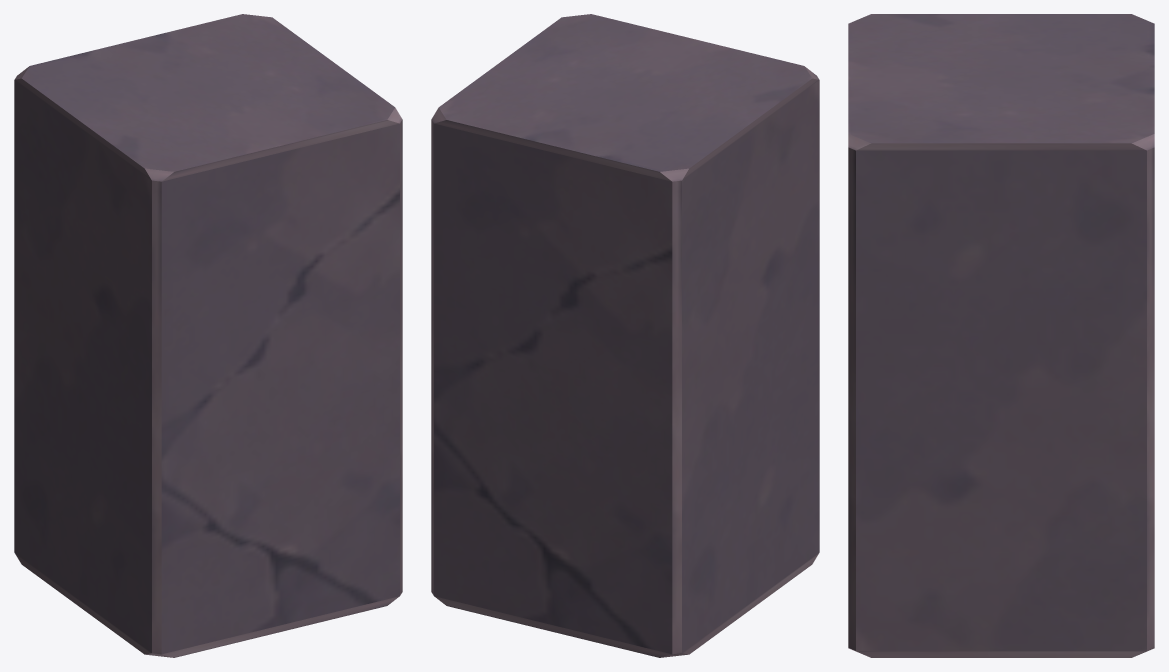
File: Stone_pillar.FBX
3 renders of one model, left to right at view 1: azimuth 30°, elevation 25°; view 2: azimuth 150°, elevation 25°; view 3: azimuth 270°, elevation 25°, orthographic. The views are drawn at different scales.
Visible parts, largest first — view 1: Box004; view 2: Box004; view 3: Box004.
Part boxes in pixels (x1,y1,x2,y2): Box004: (14, 14, 402, 657); Box004: (431, 14, 819, 657); Box004: (848, 14, 1154, 657).
Bounding box in the file's own units: 2.34 × 4.34 × 2.34.
Materials: 1 (1 with a texture image).
